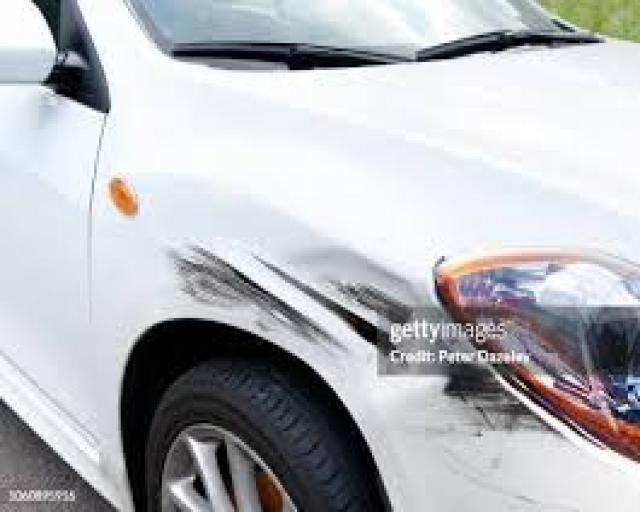scratch: (158, 210, 616, 461)
